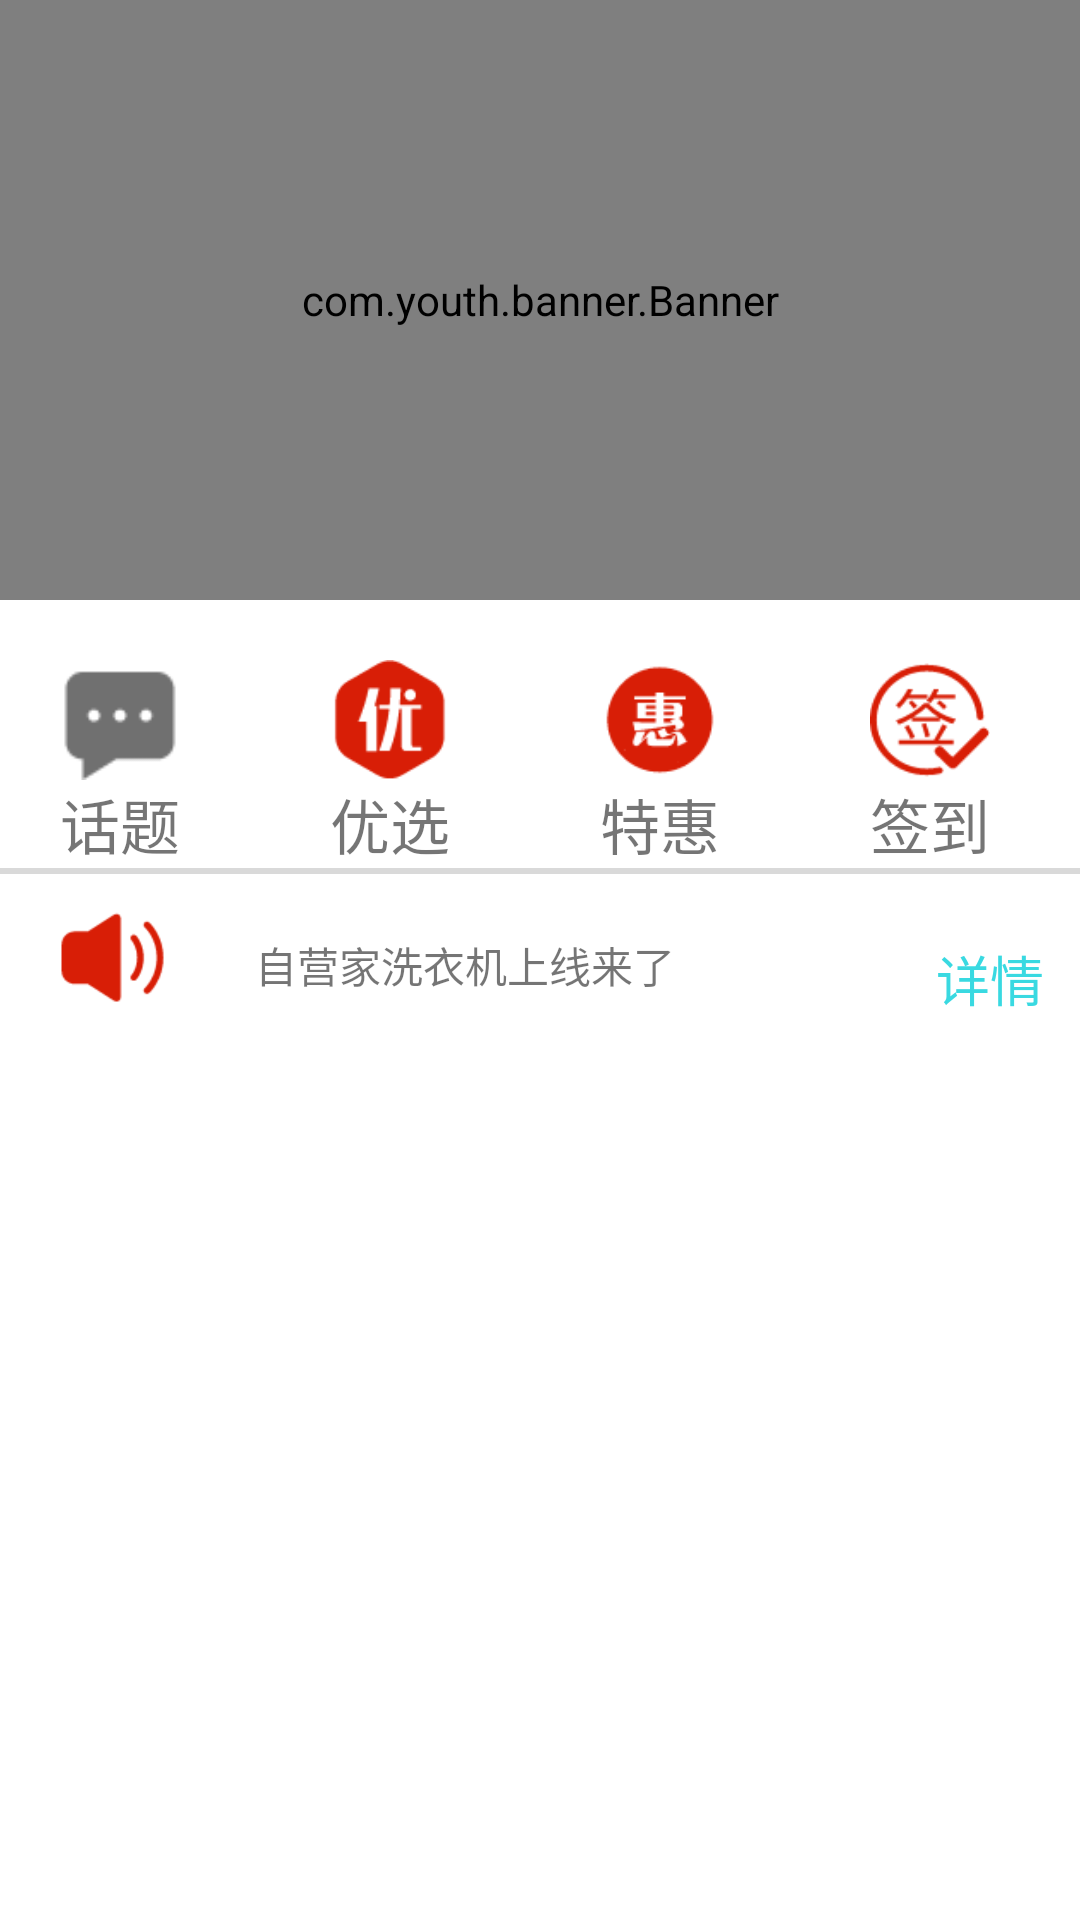

Named icons in this screenshot (1080x1920) and their centers, (x=x, y=y):
discuss: (x=120, y=725)
trumpet: (x=112, y=957)
